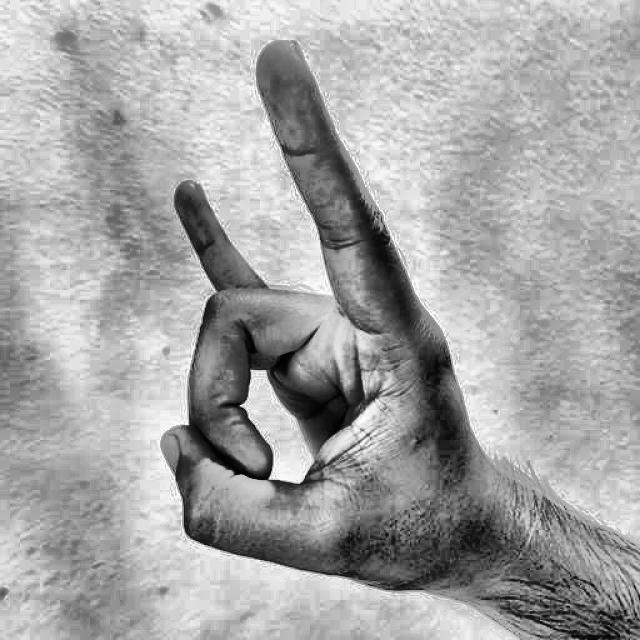Cha: (111, 25, 534, 640)
